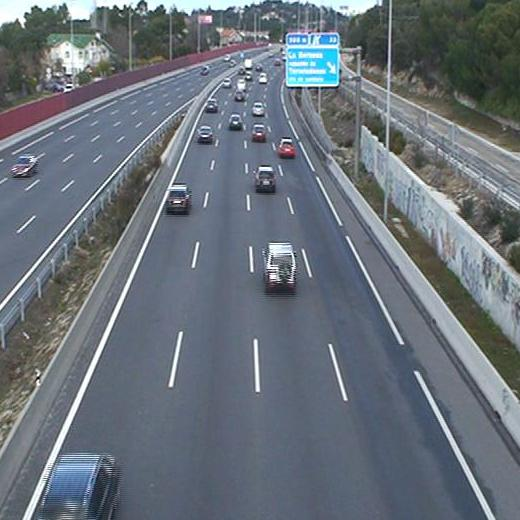car: (41, 453, 122, 519), (264, 244, 295, 287), (166, 184, 190, 211), (255, 166, 275, 191), (197, 124, 213, 142), (279, 139, 294, 156), (229, 113, 242, 130), (252, 123, 265, 139), (204, 98, 217, 112), (252, 101, 264, 116), (234, 90, 244, 104), (258, 72, 268, 84), (222, 77, 232, 89)
van: (236, 79, 246, 92)
